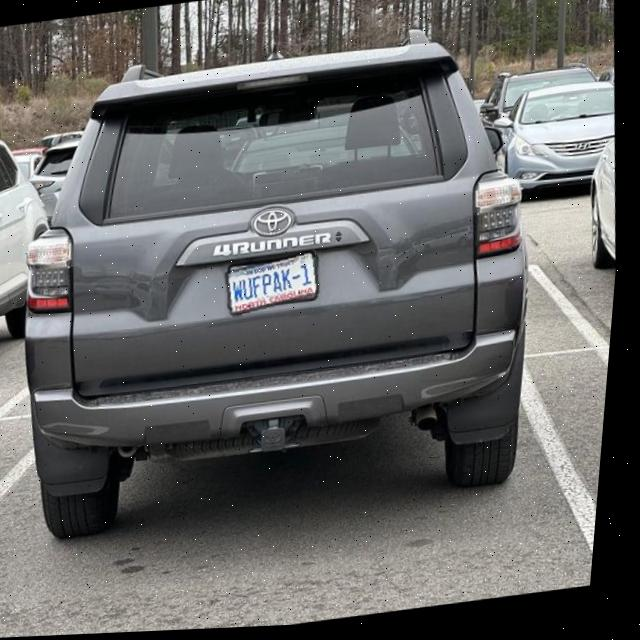LicensePlate: (230, 252, 326, 319)
